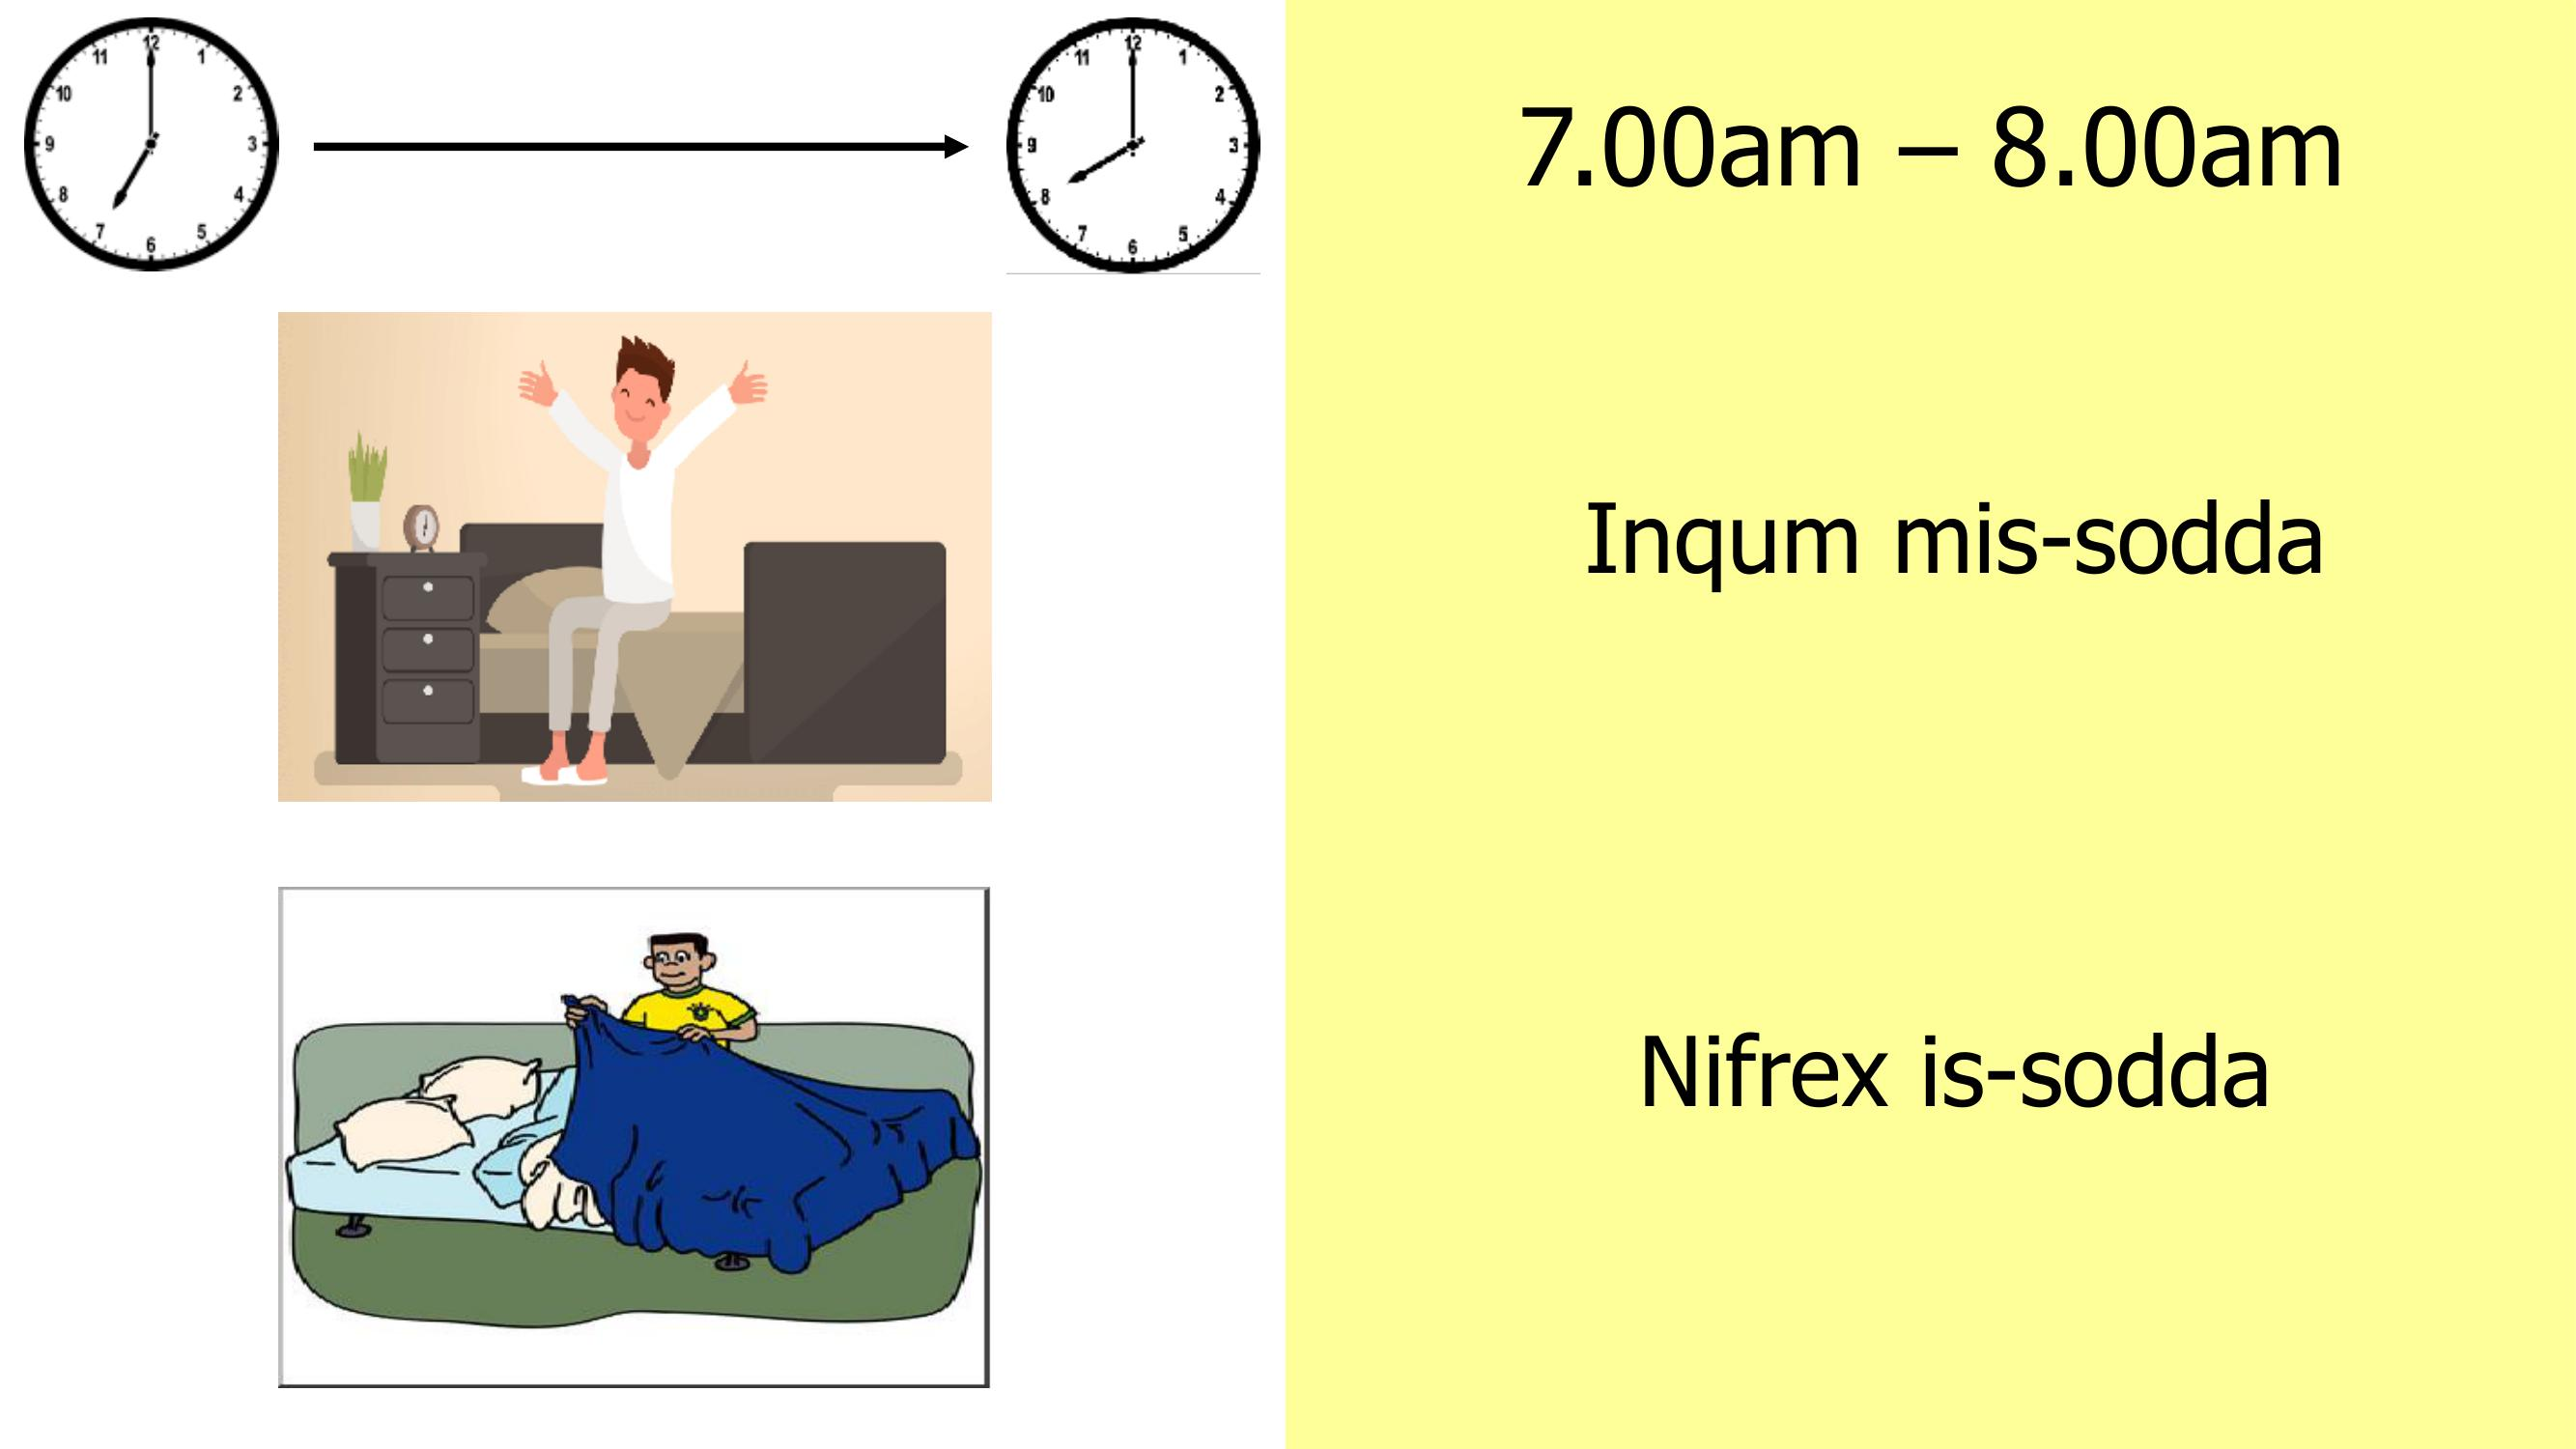text: (1513, 418, 2360, 1145)
